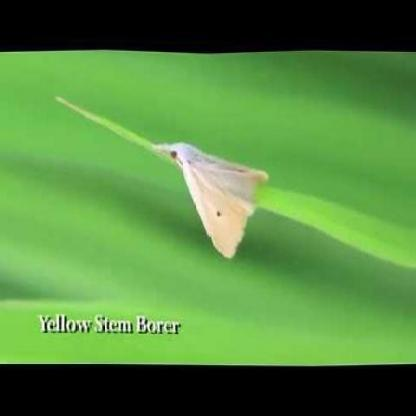stem-borer: (148, 141, 271, 259)
